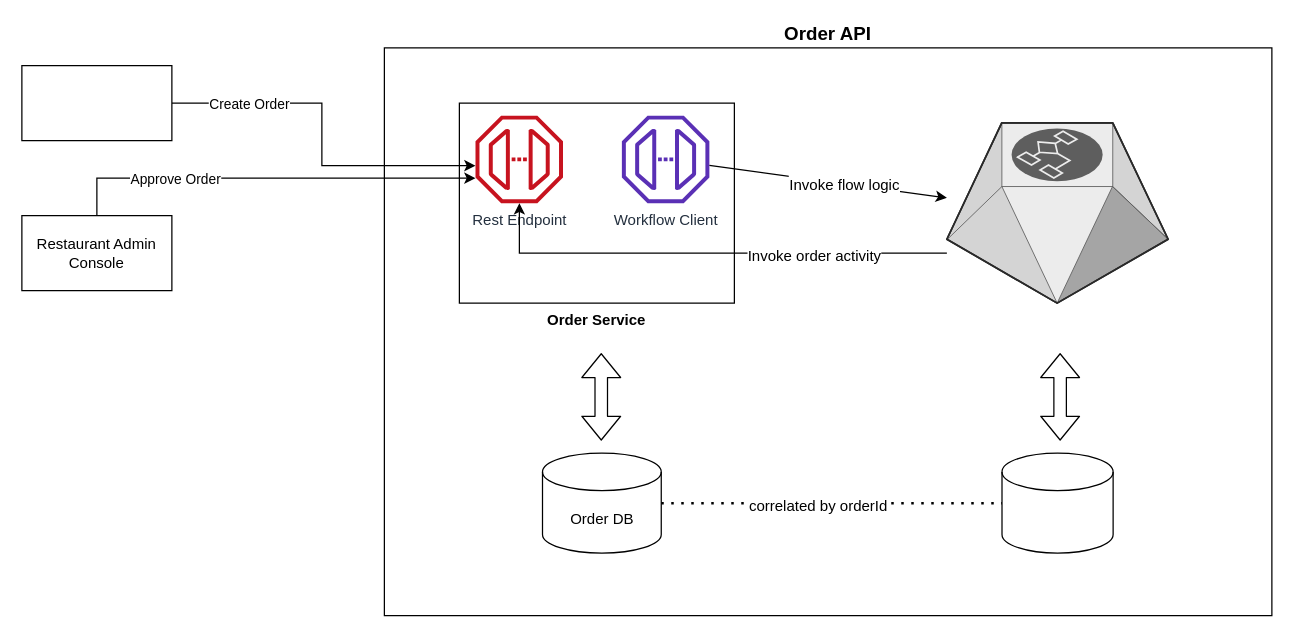
This 1294x638 diagram has some shape labels left out. Here are the shapes that lost their labels. From the top down, the centre of each, then its label:
At point 96,102: "Customer System".
At point 1057,212: "Order Workflow Engine".
At point 1057,502: "Order Workflow DB".
